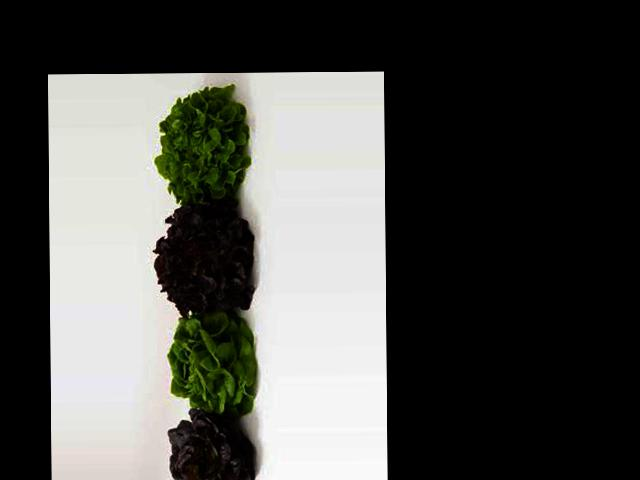lettuce: (172, 313, 259, 409)
